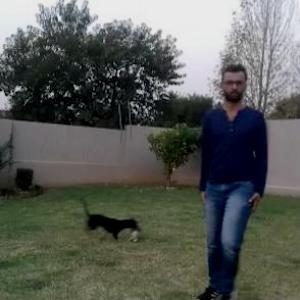follow: (196, 61, 267, 299)
